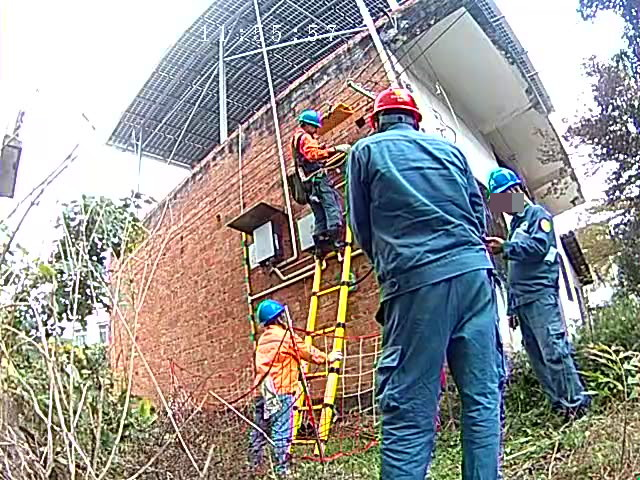downcloth: (251, 397, 297, 465)
downsuit: (373, 282, 506, 480), (517, 298, 580, 402), (306, 173, 341, 227)
halt: (369, 84, 424, 129), (489, 167, 529, 214), (258, 300, 290, 326), (297, 110, 323, 137)
person: (345, 90, 510, 480), (490, 165, 589, 470), (249, 298, 310, 475), (288, 107, 345, 244)
shoe: (312, 227, 345, 256)
sleeve: (538, 217, 553, 235)
support: (241, 292, 346, 470)
upsuit: (348, 135, 495, 284), (506, 204, 564, 293)
wglove: (325, 348, 341, 364), (334, 142, 348, 153)
yupsuit: (253, 329, 314, 392), (288, 127, 330, 163)
